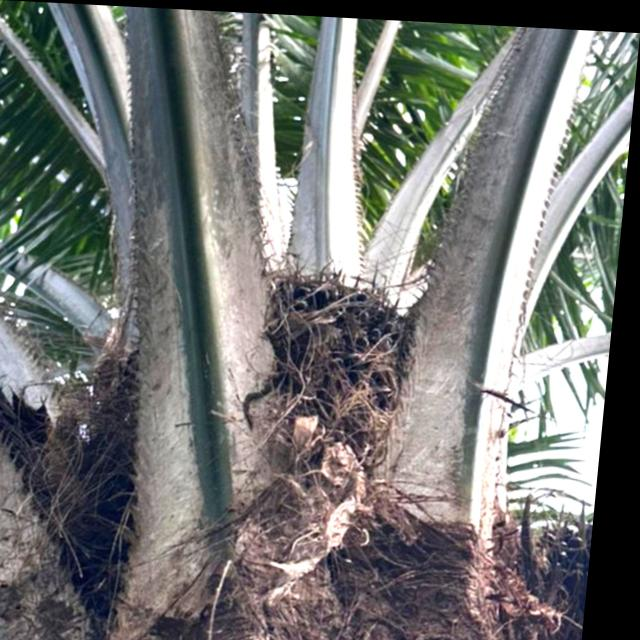unripe: (244, 249, 444, 458)
